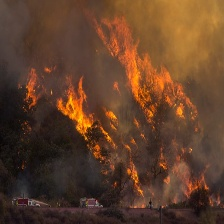fire: (101, 23, 184, 114), (123, 148, 214, 206), (55, 82, 104, 147), (22, 69, 36, 114)
smoke: (146, 1, 224, 71), (8, 1, 83, 67)
